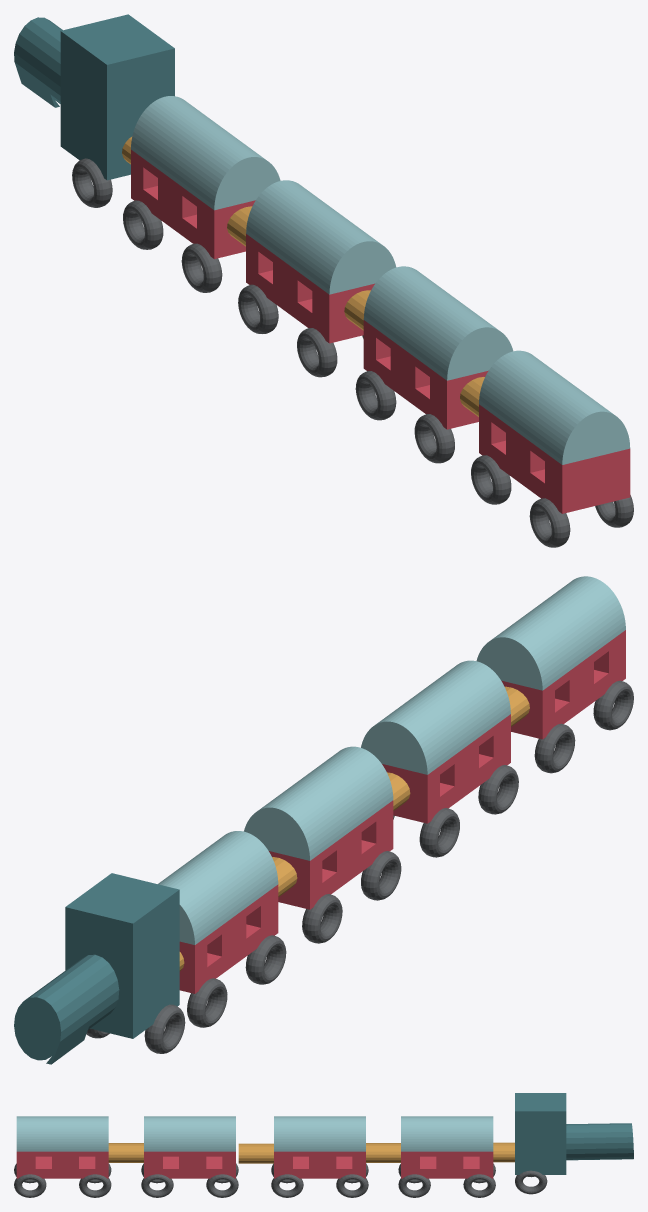
File: Sizzling Turing.glb
3 renders of one model, top to bottom at view 1: azimuth 30°, elevation 25°; view 2: azimuth 150°, elevation 25°; view 3: azimuth 270°, elevation 25°, orthographic. The views are drawn at different scales.
Visible parts, largest first — view 1: Mesh_Mesh_head_geo.001_lambert2SG.001; view 2: Mesh_Mesh_head_geo.001_lambert2SG.001; view 3: Mesh_Mesh_head_geo.001_lambert2SG.001.
Boxes of the visible parts, x1,y1,x2,y2 form: Mesh_Mesh_head_geo.001_lambert2SG.001: [14, 14, 633, 547]; Mesh_Mesh_head_geo.001_lambert2SG.001: [14, 576, 633, 1064]; Mesh_Mesh_head_geo.001_lambert2SG.001: [14, 1093, 633, 1197].
Bounding box in the file's own units: 20 × 36 × 229.
